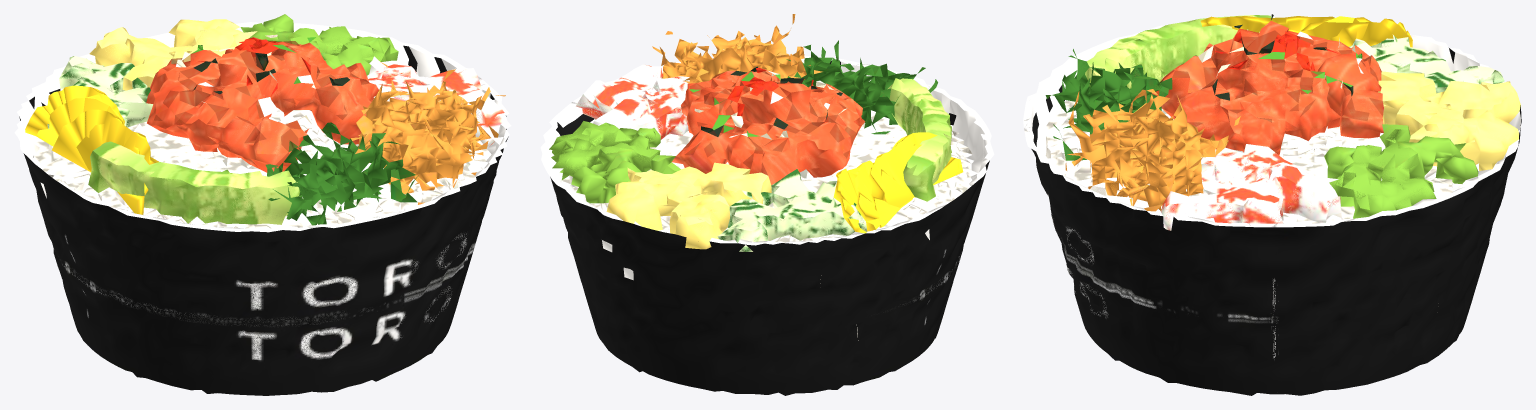
The model's file is classic_poke_lite.glb.
The picture shows the model from 3 angles, left to right: view 1: azimuth 30°, elevation 25°; view 2: azimuth 150°, elevation 25°; view 3: azimuth 270°, elevation 25°; orthographic projection. The views are drawn at different scales.
Parts seen in each view (by area): view 1: ing_base, ing_salmon, ing_rice, ing_avocado, ing_wontonCrisp, ing_wakame, ing_oshinko, ing_pineapple, ing_kanikama, ing_edamame, ing_pokeSauce, ing_cucumber (+3 smaller); view 2: ing_base, ing_salmon, ing_pineapple, ing_edamame, ing_cucumber, ing_rice, ing_kanikama, ing_oshinko, ing_wontonCrisp, ing_avocado, ing_wakame, ing_pokeSauce (+4 smaller); view 3: ing_base, ing_salmon, ing_wontonCrisp, ing_kanikama, ing_pineapple, ing_edamame, ing_rice, ing_avocado, ing_wakame, ing_oshinko, ing_cucumber, ing_pokeSauce (+2 smaller).
Part boxes in pixels (box(x1,y1,x2,y2)): ing_base: box(14, 22, 511, 395); ing_salmon: box(146, 41, 378, 172); ing_rice: box(33, 108, 491, 228); ing_avocado: box(88, 141, 300, 224); ing_wontonCrisp: box(350, 62, 505, 204); ing_wakame: box(265, 122, 418, 225); ing_oshinko: box(25, 85, 158, 214); ing_pineapple: box(89, 19, 257, 90); ing_kanikama: box(367, 56, 507, 148); ing_edamame: box(240, 14, 398, 75); ing_pokeSauce: box(154, 40, 369, 165); ing_cucumber: box(47, 56, 153, 128); ing_base: box(540, 55, 994, 395); ing_salmon: box(672, 67, 864, 184); ing_pineapple: box(606, 162, 771, 249); ing_edamame: box(549, 121, 680, 203); ing_cucumber: box(717, 169, 867, 251); ing_rice: box(559, 110, 977, 340); ing_kanikama: box(576, 64, 689, 139); ing_oshinko: box(833, 132, 963, 233); ing_wontonCrisp: box(652, 14, 822, 83); ing_avocado: box(887, 78, 951, 201); ing_wakame: box(786, 40, 937, 134); ing_pokeSauce: box(684, 71, 864, 175); ing_base: box(1023, 17, 1521, 395); ing_salmon: box(1152, 21, 1383, 155); ing_wontonCrisp: box(1065, 89, 1240, 211); ing_kanikama: box(1161, 144, 1340, 230); ing_pineapple: box(1378, 71, 1520, 170); ing_edamame: box(1324, 124, 1478, 218); ing_rice: box(1045, 77, 1478, 223); ing_avocado: box(1085, 15, 1271, 88); ing_wakame: box(1045, 49, 1172, 160); ing_oshinko: box(1200, 16, 1412, 47); ing_cucumber: box(1349, 34, 1504, 93); ing_pokeSauce: box(1160, 29, 1383, 126).
Size of the model in its own units: 0.1717 by 0.1056 by 0.1719.
2 materials, 2 textured.
